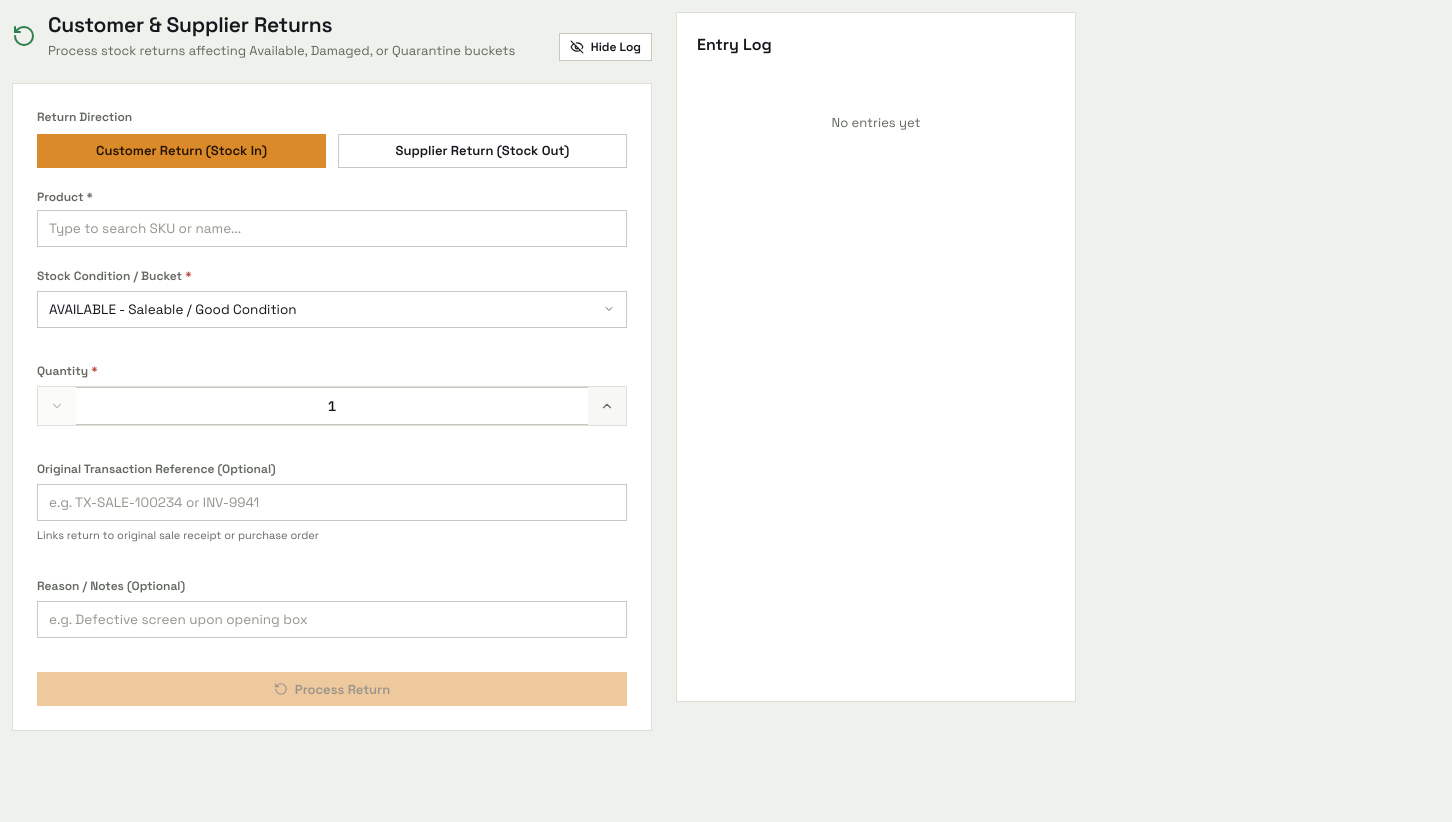
Test case: ReturnStockView — Issue 08 Acceptance Criteria › supplier return decreases AVAILABLE bucket correctly
Type "LG" into the field with test id "product-search" at (332, 228), box [37,210,627,247]
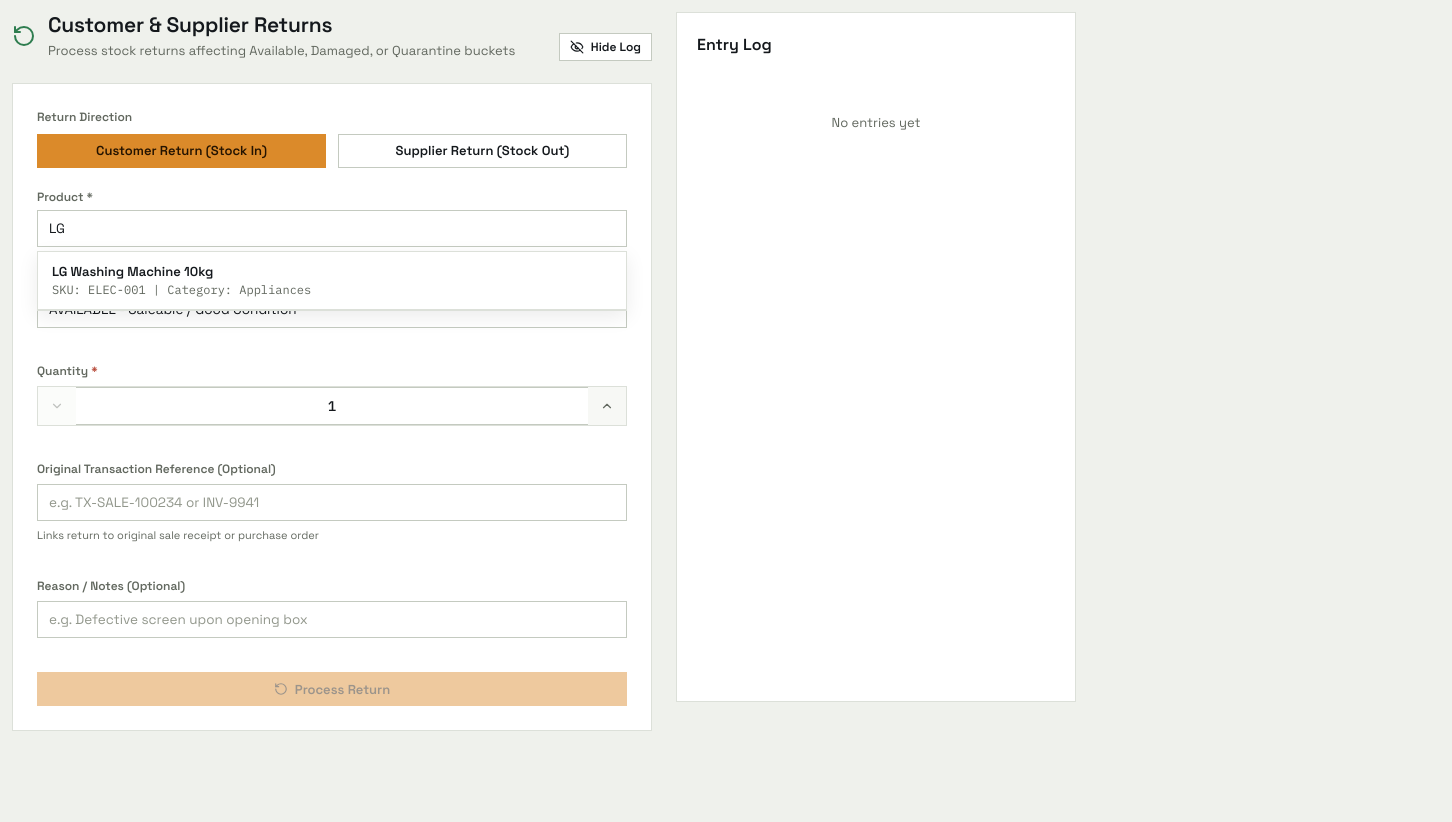
Expected: the list item with test id "product-option-PROD-001" is shown
Click the list item with test id "product-option-PROD-001" at (332, 281), box [38,252,626,310]
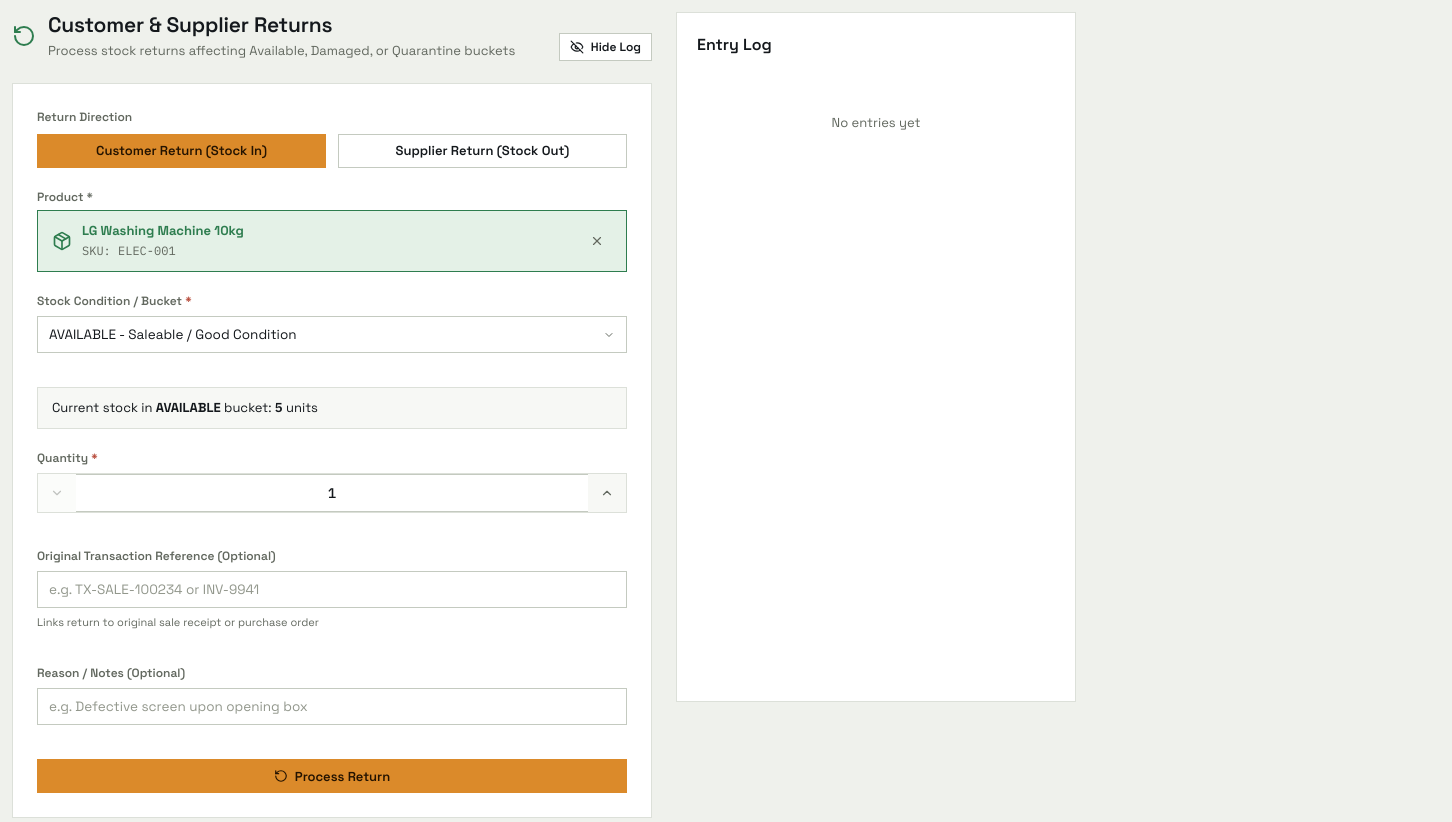
Expected: the element with test id "selected-product-card" is shown, [37,210,627,272]
Click the button with test id "return-type-supplier" at (482, 151), box [338,134,627,168]
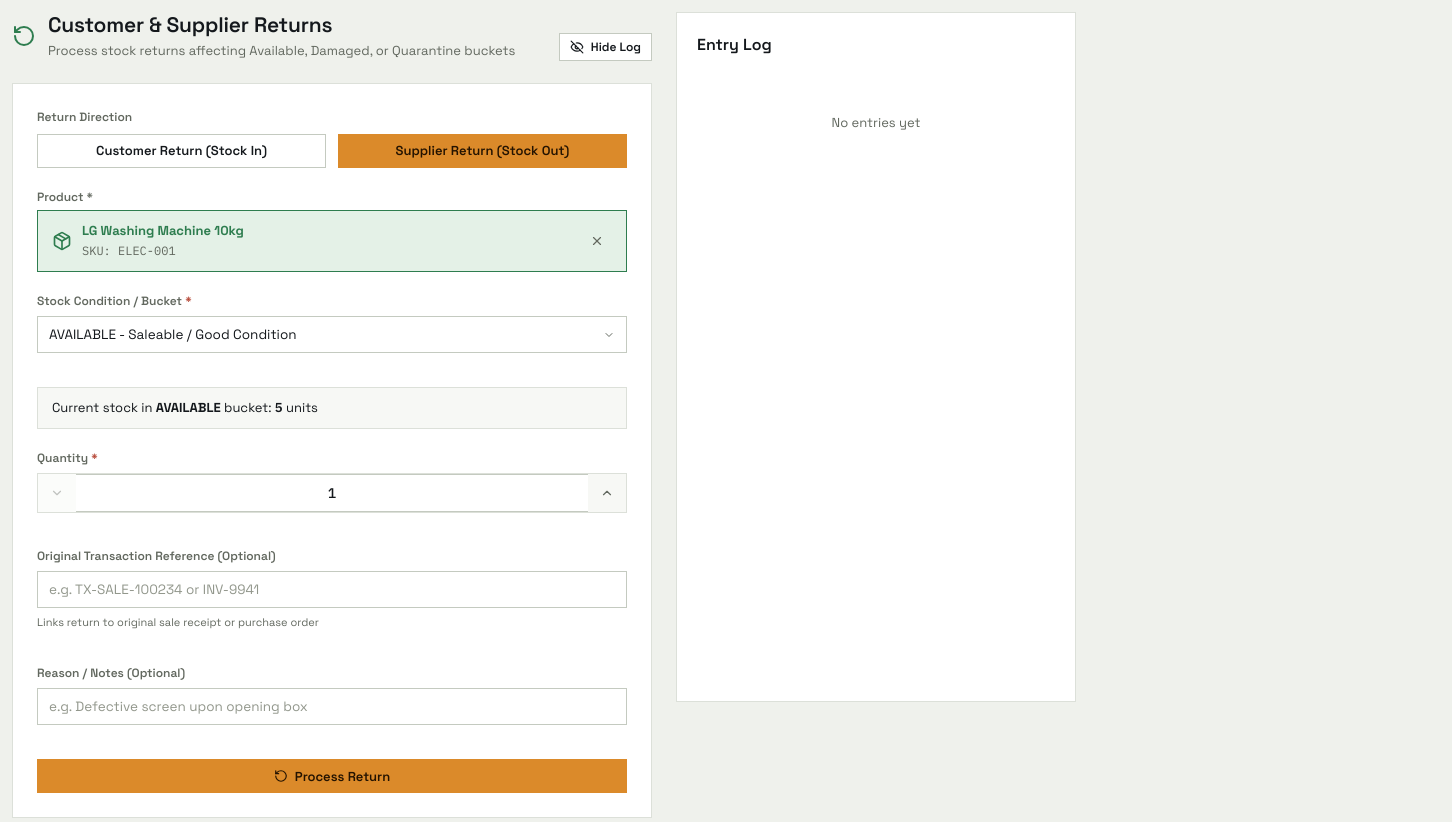
Select "AVAILABLE - Saleable / Good Condition" in the dropdown with test id "bucket-select" at (332, 335), box [37,316,627,353]
Replace the text in the number field with test id "quantity-input" with "3" at (332, 493), box [76,474,588,512]
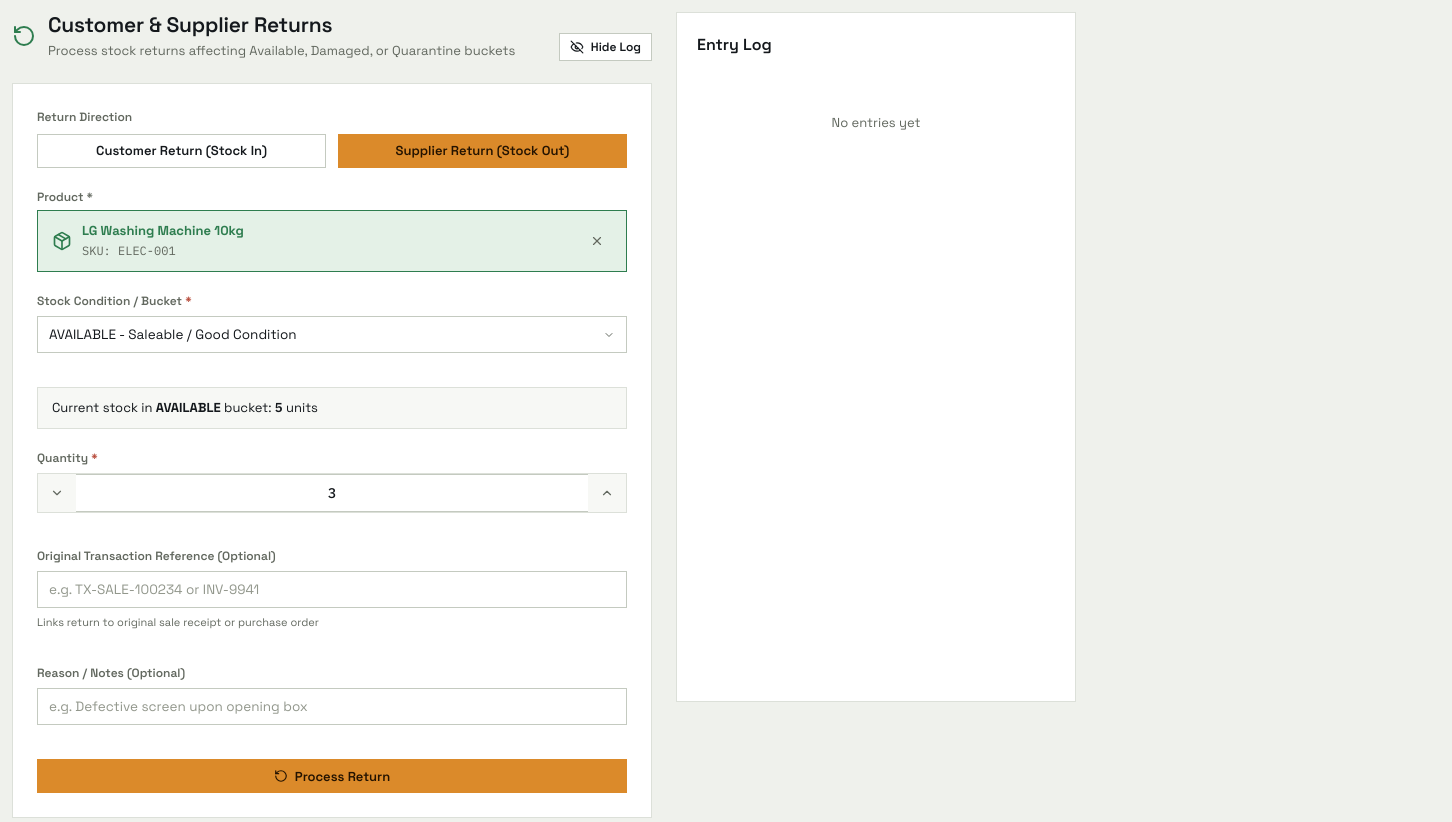
Click the button with test id "submit-return-button" at (332, 776), box [37,759,627,793]
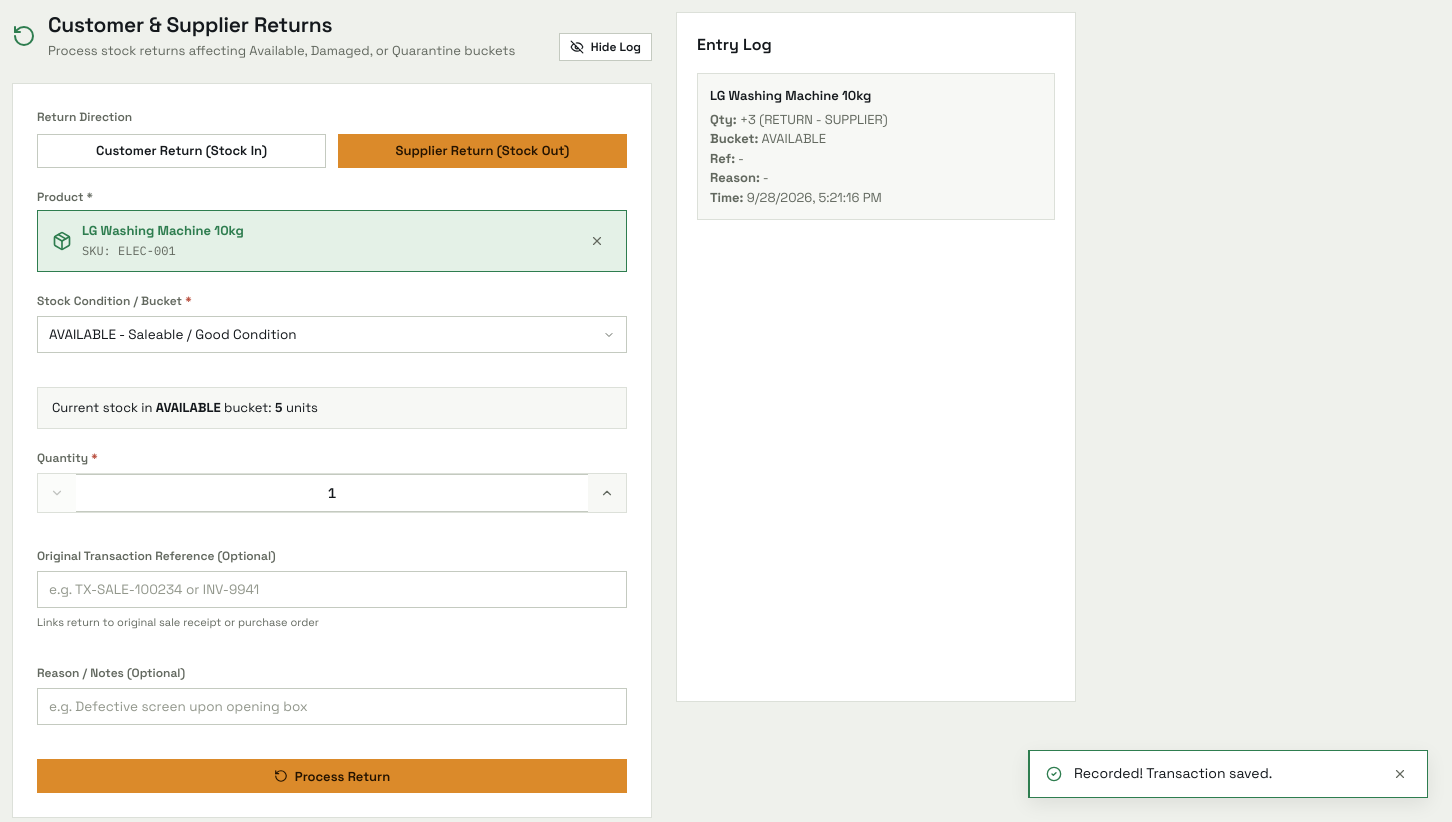
Expected: the text "Recorded! Transaction saved." is shown, [1074,764,1272,782]
